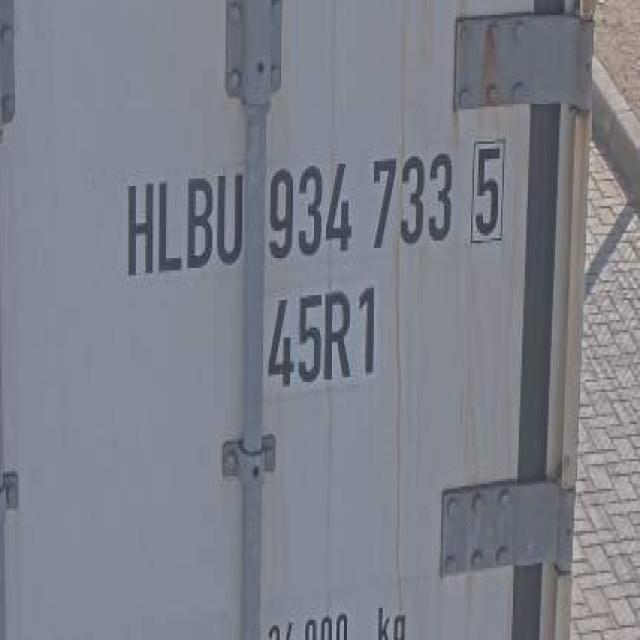dv: (466, 130, 508, 251)
owner: (117, 166, 249, 283)
serial: (264, 138, 456, 268)
size: (261, 275, 379, 397)
